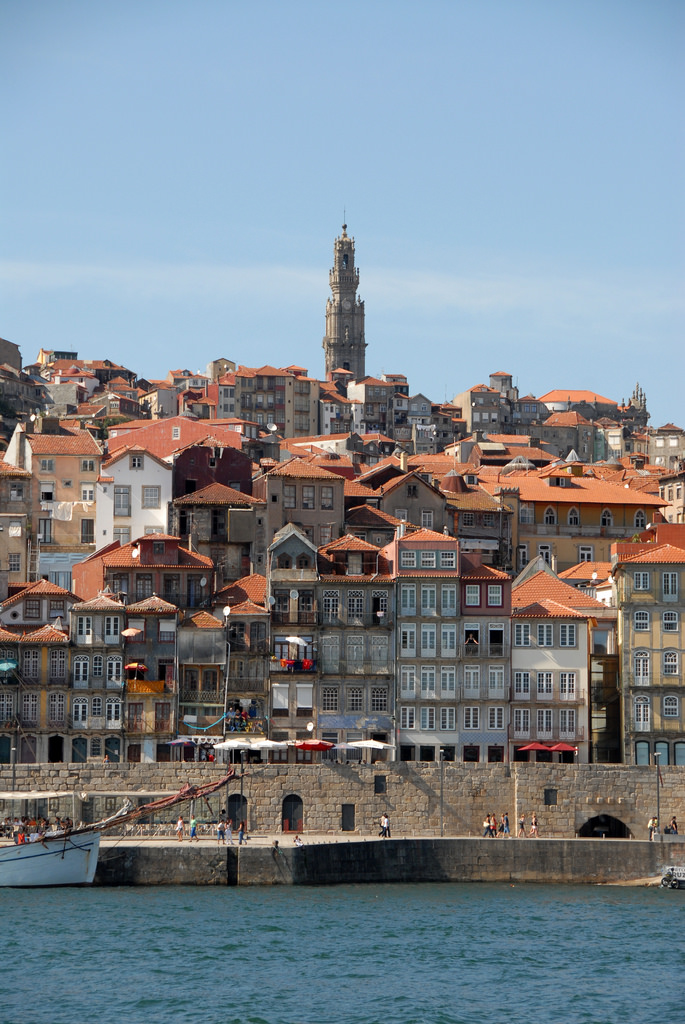clerigos: (319, 217, 371, 389)
